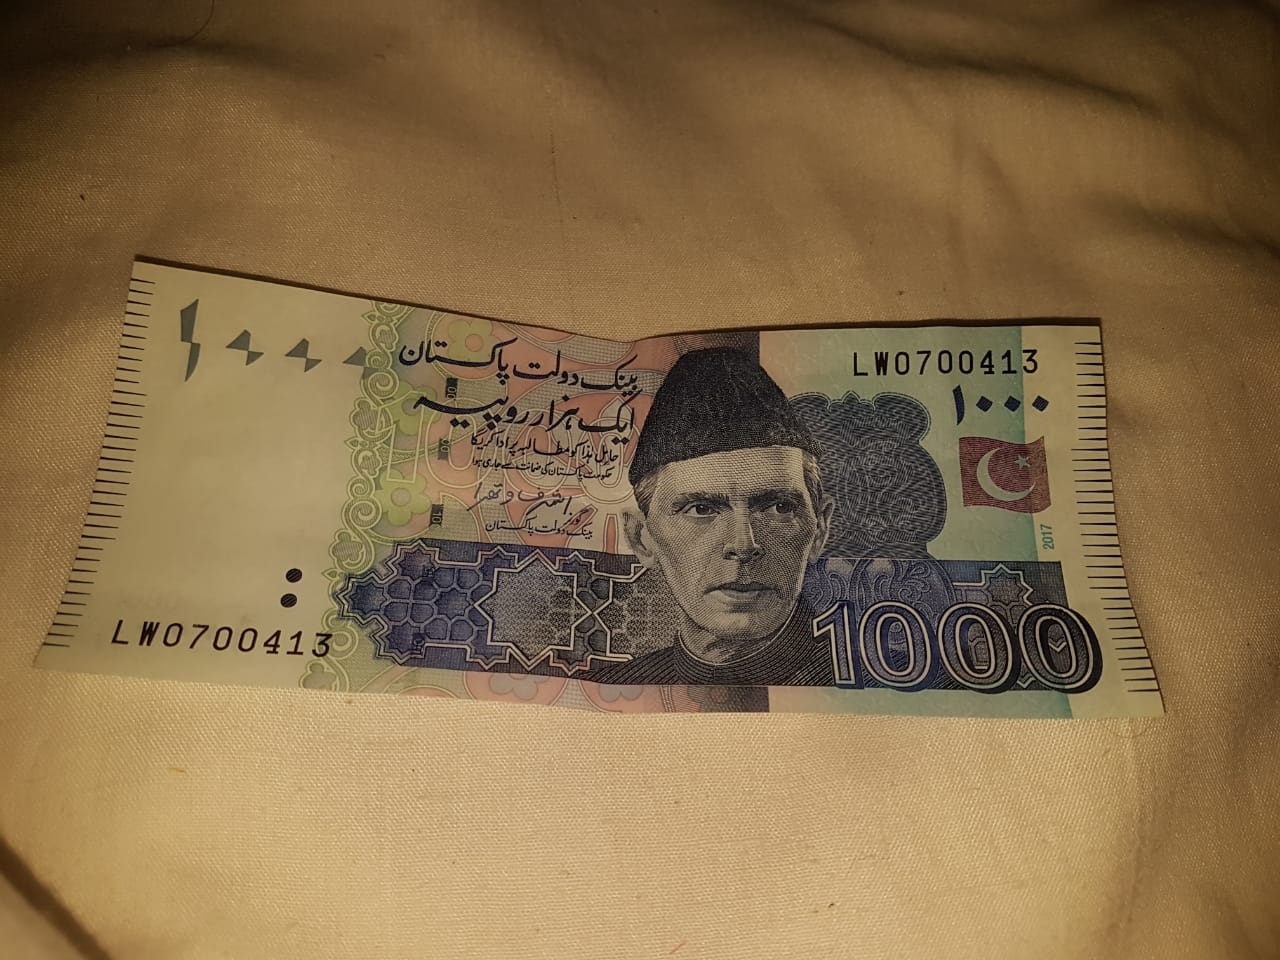1000 rupee: (70, 247, 1238, 768)
